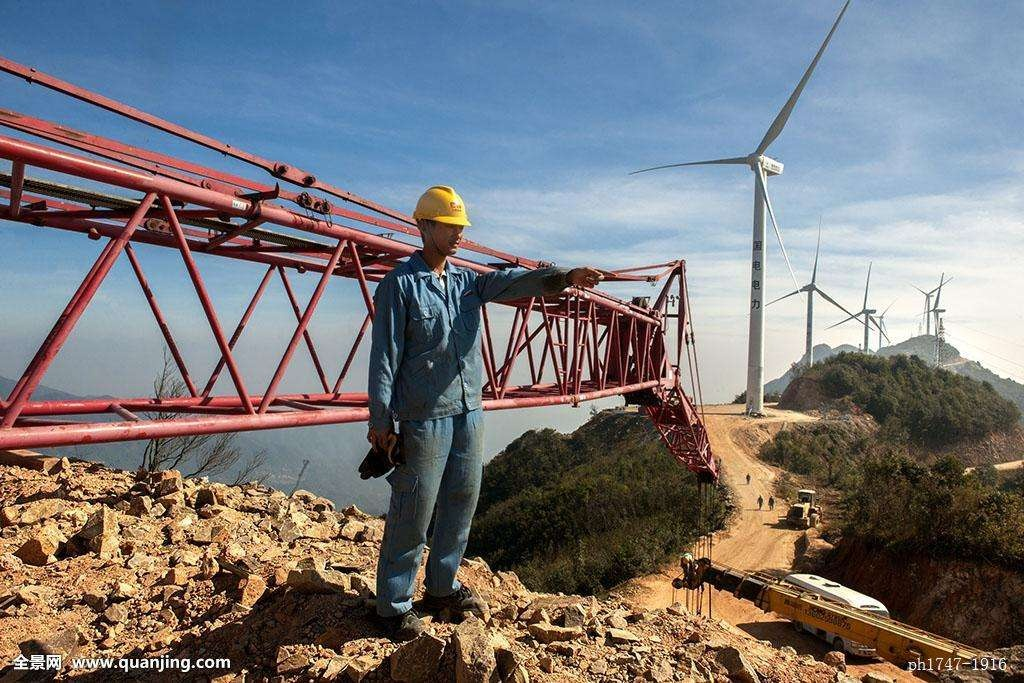yellow: (410, 184, 469, 261)
